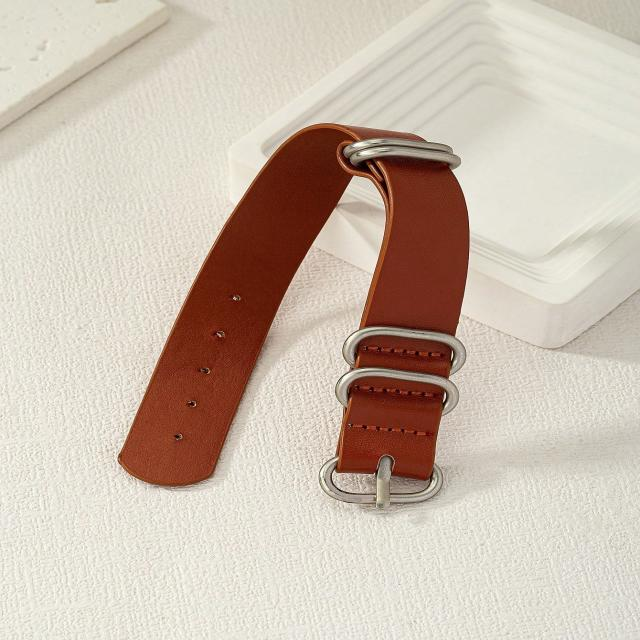bracelet: (0, 54, 559, 554)
